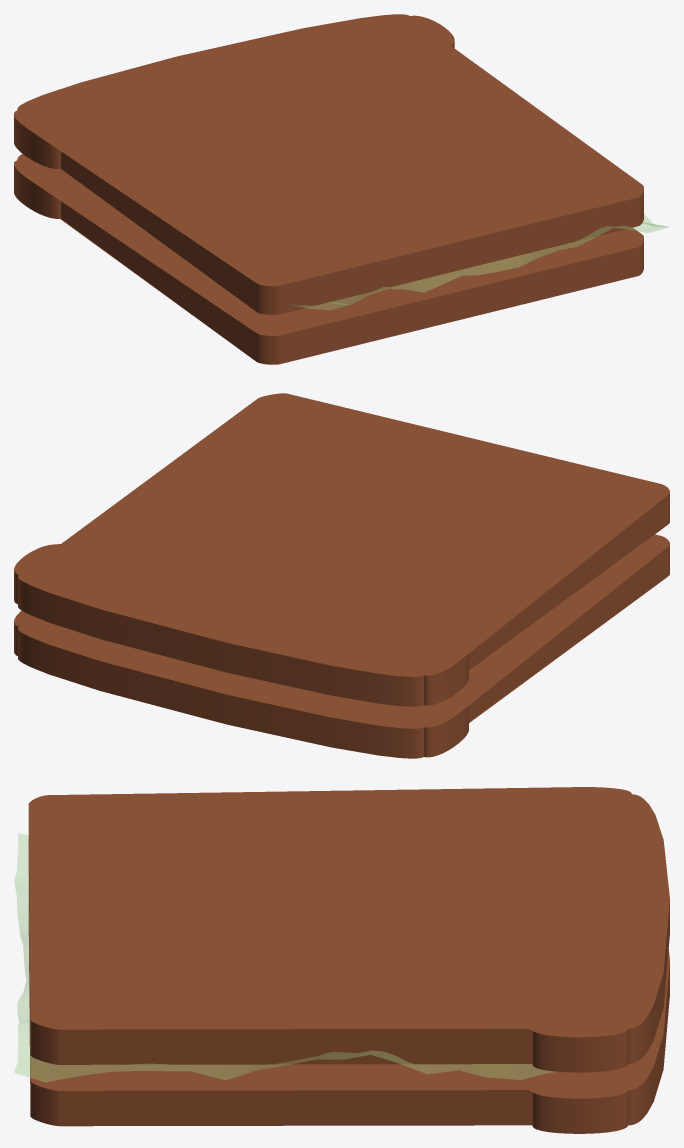
Rendered from Sanduiche.fbx.
3 renders of one model, top to bottom at view 1: azimuth 30°, elevation 25°; view 2: azimuth 150°, elevation 25°; view 3: azimuth 270°, elevation 25°, orthographic. The views are drawn at different scales.
Parts seen in each view (by area): view 1: Cap_2, Extrude_1, Extrude, Cap_2_2, Plane; view 2: Cap_2, Extrude_1, Extrude, Cap_2_2; view 3: Cap_2, Extrude, Extrude_1, Cap_2_2, Plane.
Part boxes in pixels (x1=…): Cap_2: x1=14, y1=14, x2=643, y2=286; Extrude_1: x1=14, y1=41, x2=643, y2=314; Extrude: x1=14, y1=159, x2=643, y2=364; Cap_2_2: x1=14, y1=154, x2=643, y2=335; Plane: x1=292, y1=214, x2=668, y2=310; Cap_2: x1=14, y1=393, x2=669, y2=676; Extrude_1: x1=14, y1=493, x2=669, y2=706; Extrude: x1=14, y1=545, x2=669, y2=758; Cap_2_2: x1=14, y1=534, x2=669, y2=728; Cap_2: x1=28, y1=787, x2=669, y2=1037; Extrude: x1=28, y1=901, x2=669, y2=1133; Extrude_1: x1=28, y1=839, x2=669, y2=1072; Cap_2_2: x1=28, y1=875, x2=669, y2=1098; Plane: x1=14, y1=833, x2=554, y2=1081.
Size of the model in its own units: 608 by 109 by 673.
